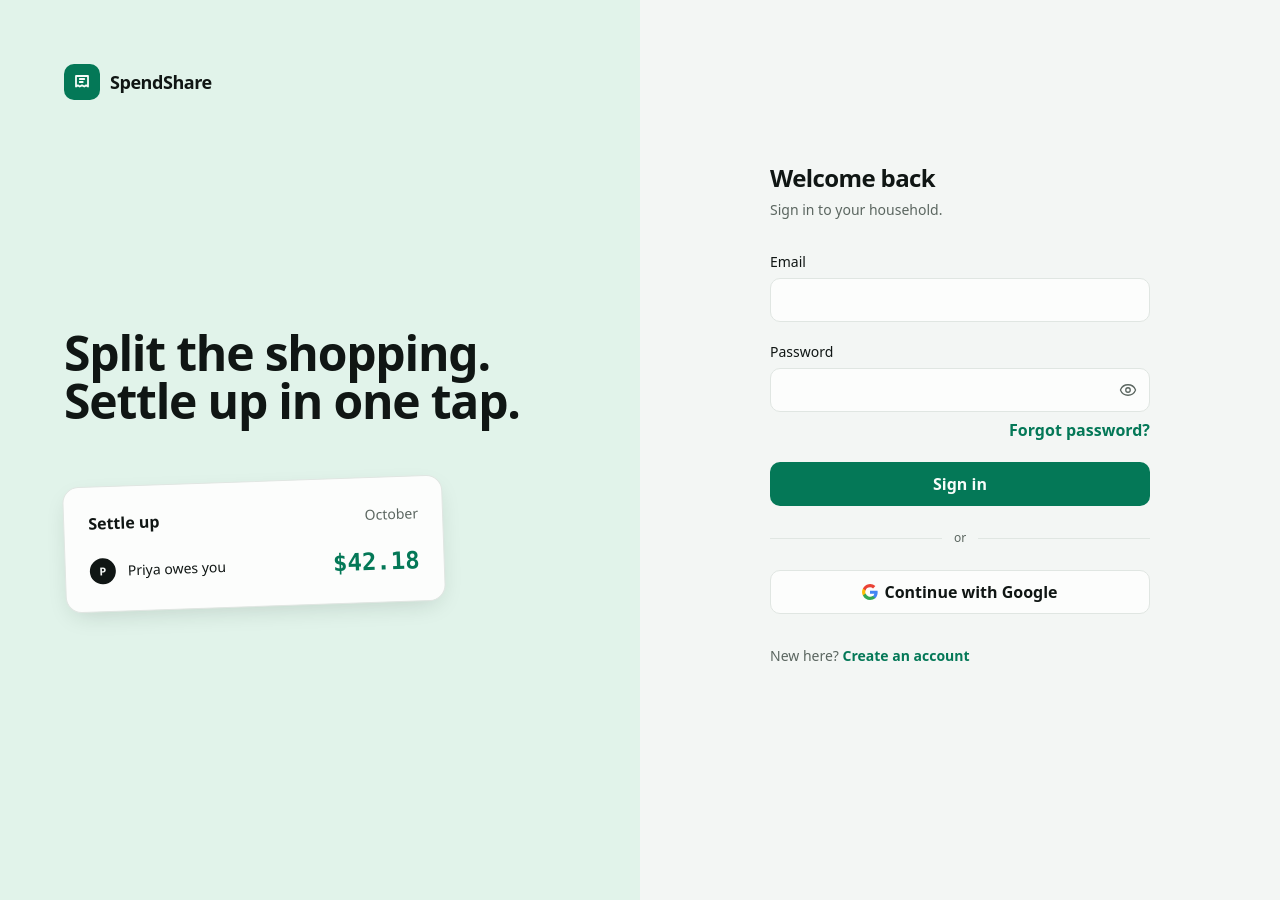
Test case: SignIn › create account mode › switches to account creation and keeps the typed email
This screenshot has width=1280, height=900.
Type "bob@example.com" into the field labelled "Email" at (960, 300), box [770,278,1150,322]
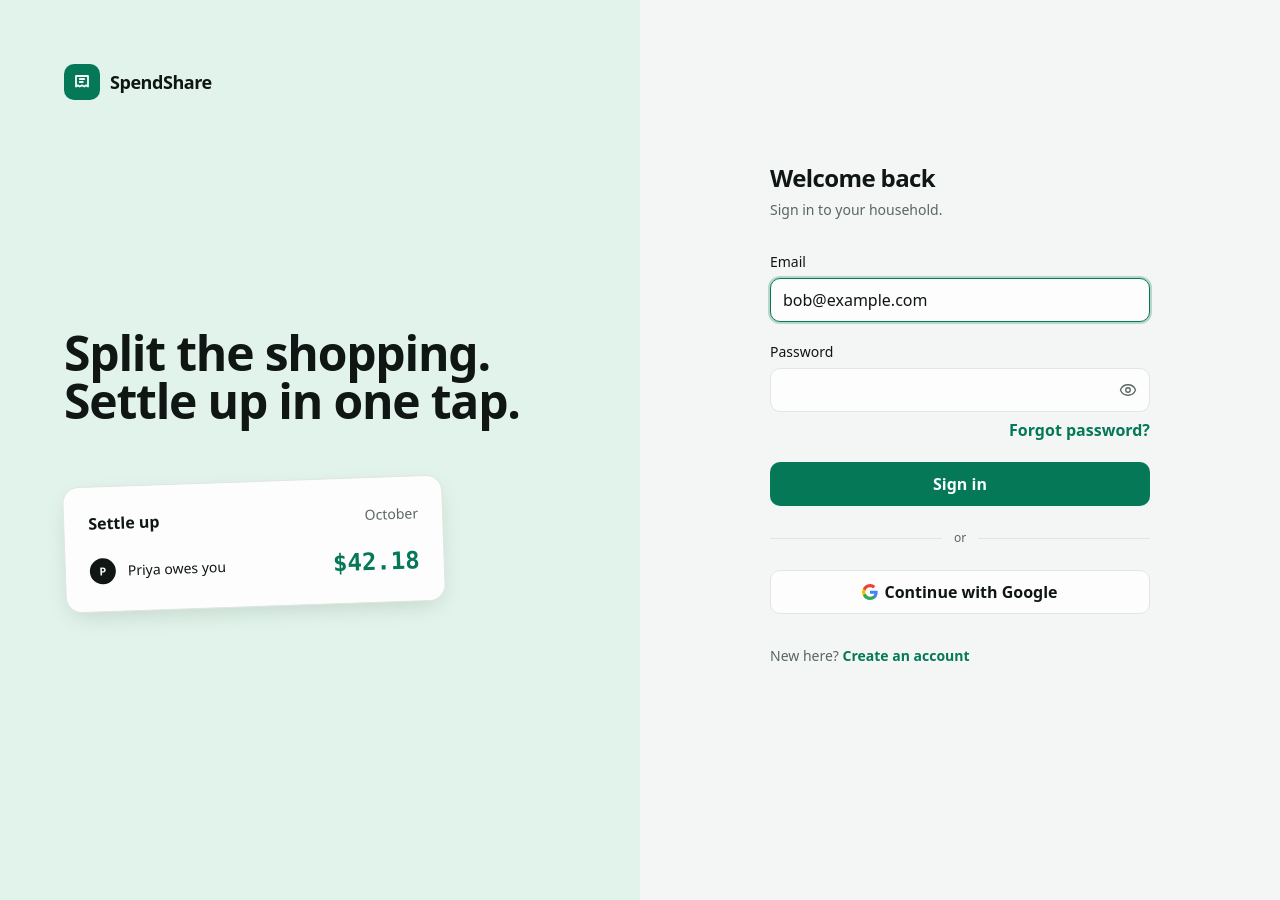
Click the button "Create an account" at (906, 656), box [843,646,970,666]
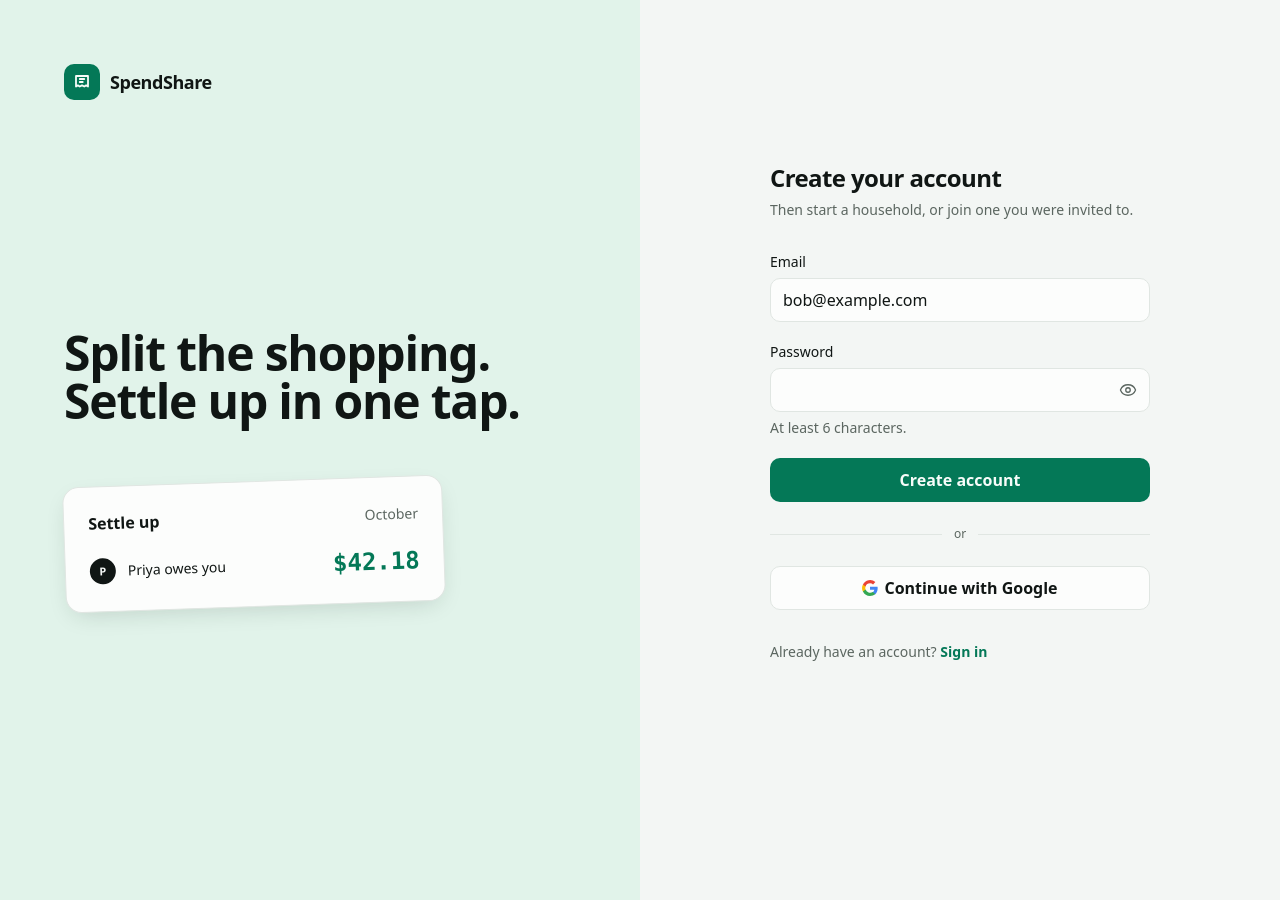
Expected: the button "Continue with Google" is shown, [770,566,1150,610]
Now the field labelled "Email" holds "bob@example.com", box [770,278,1150,322]
Now the heading "Create your account" is shown, box [770,161,1001,194]
